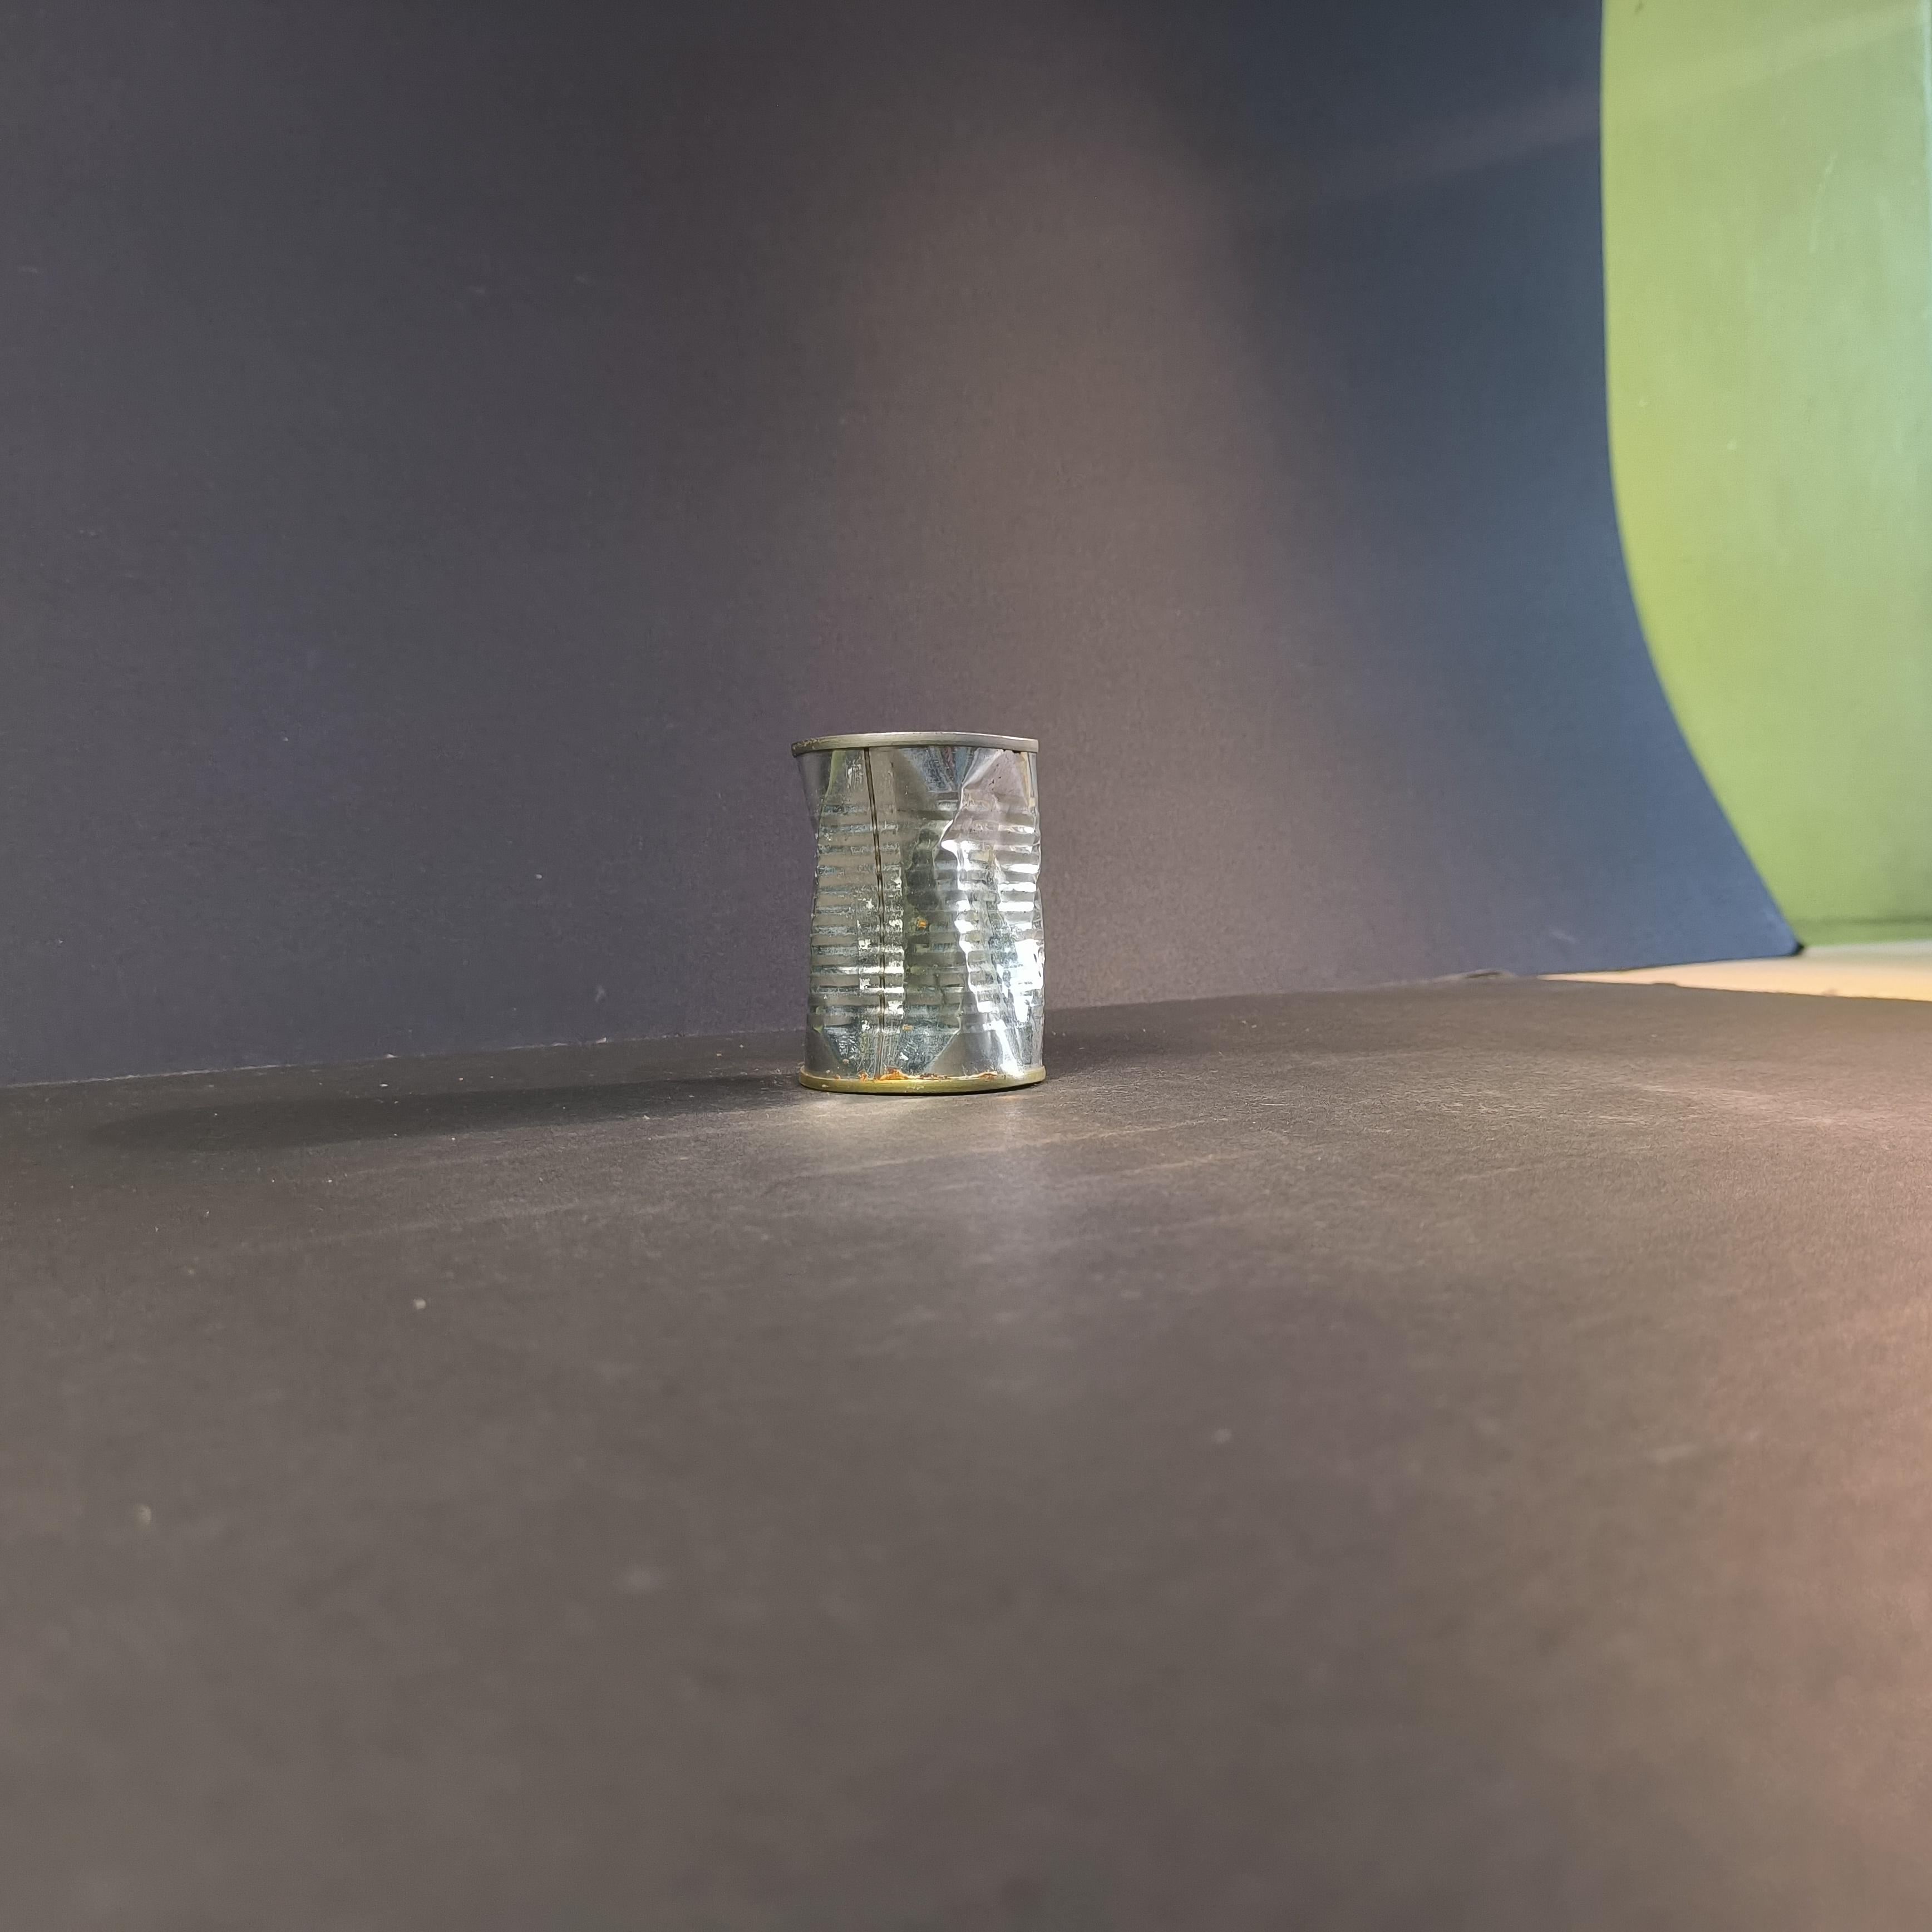Major Defect: (791, 731, 1047, 1095)
